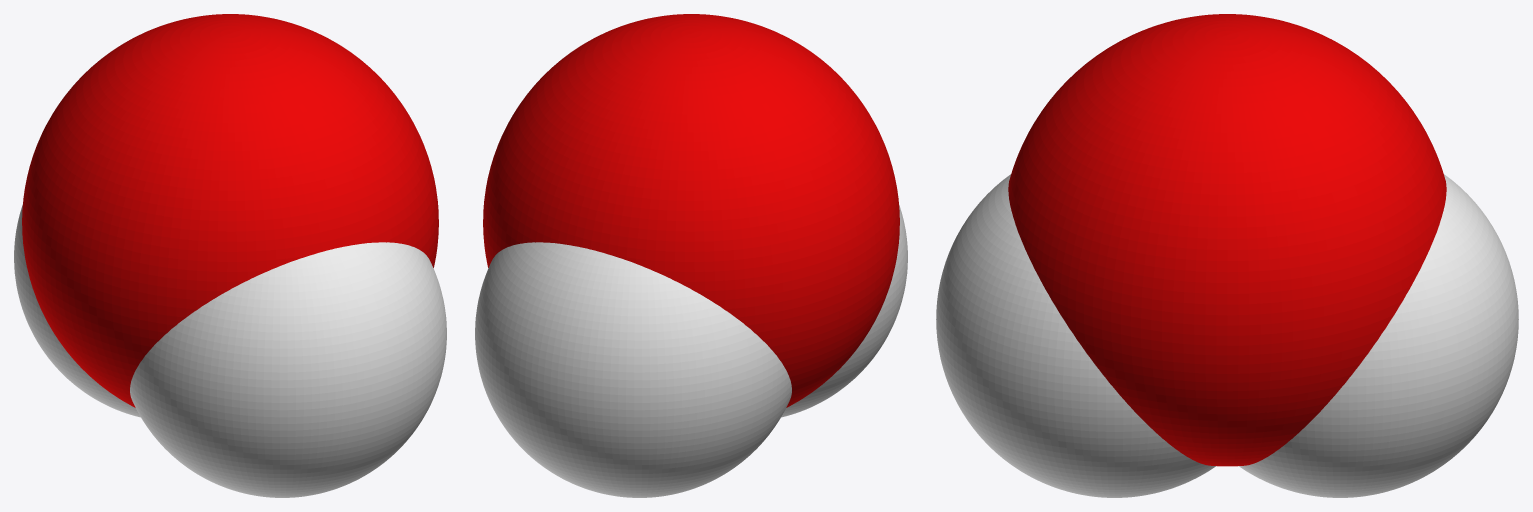
The model's file is mizubunsi.glb.
The picture shows the model from 3 angles, left to right: view 1: azimuth 30°, elevation 25°; view 2: azimuth 150°, elevation 25°; view 3: azimuth 270°, elevation 25°; orthographic projection. The views are drawn at different scales.
Parts seen in each view (by area): view 1: 球.008; view 2: 球.008; view 3: 球.008.
Boxes of the visible parts, left/top/right/bottom form: 球.008: left=14, top=14, right=446, bottom=497; 球.008: left=475, top=14, right=907, bottom=497; 球.008: left=936, top=14, right=1518, bottom=497.
Bounding box in the file's own units: 3.04 × 3.31 × 3.92.
